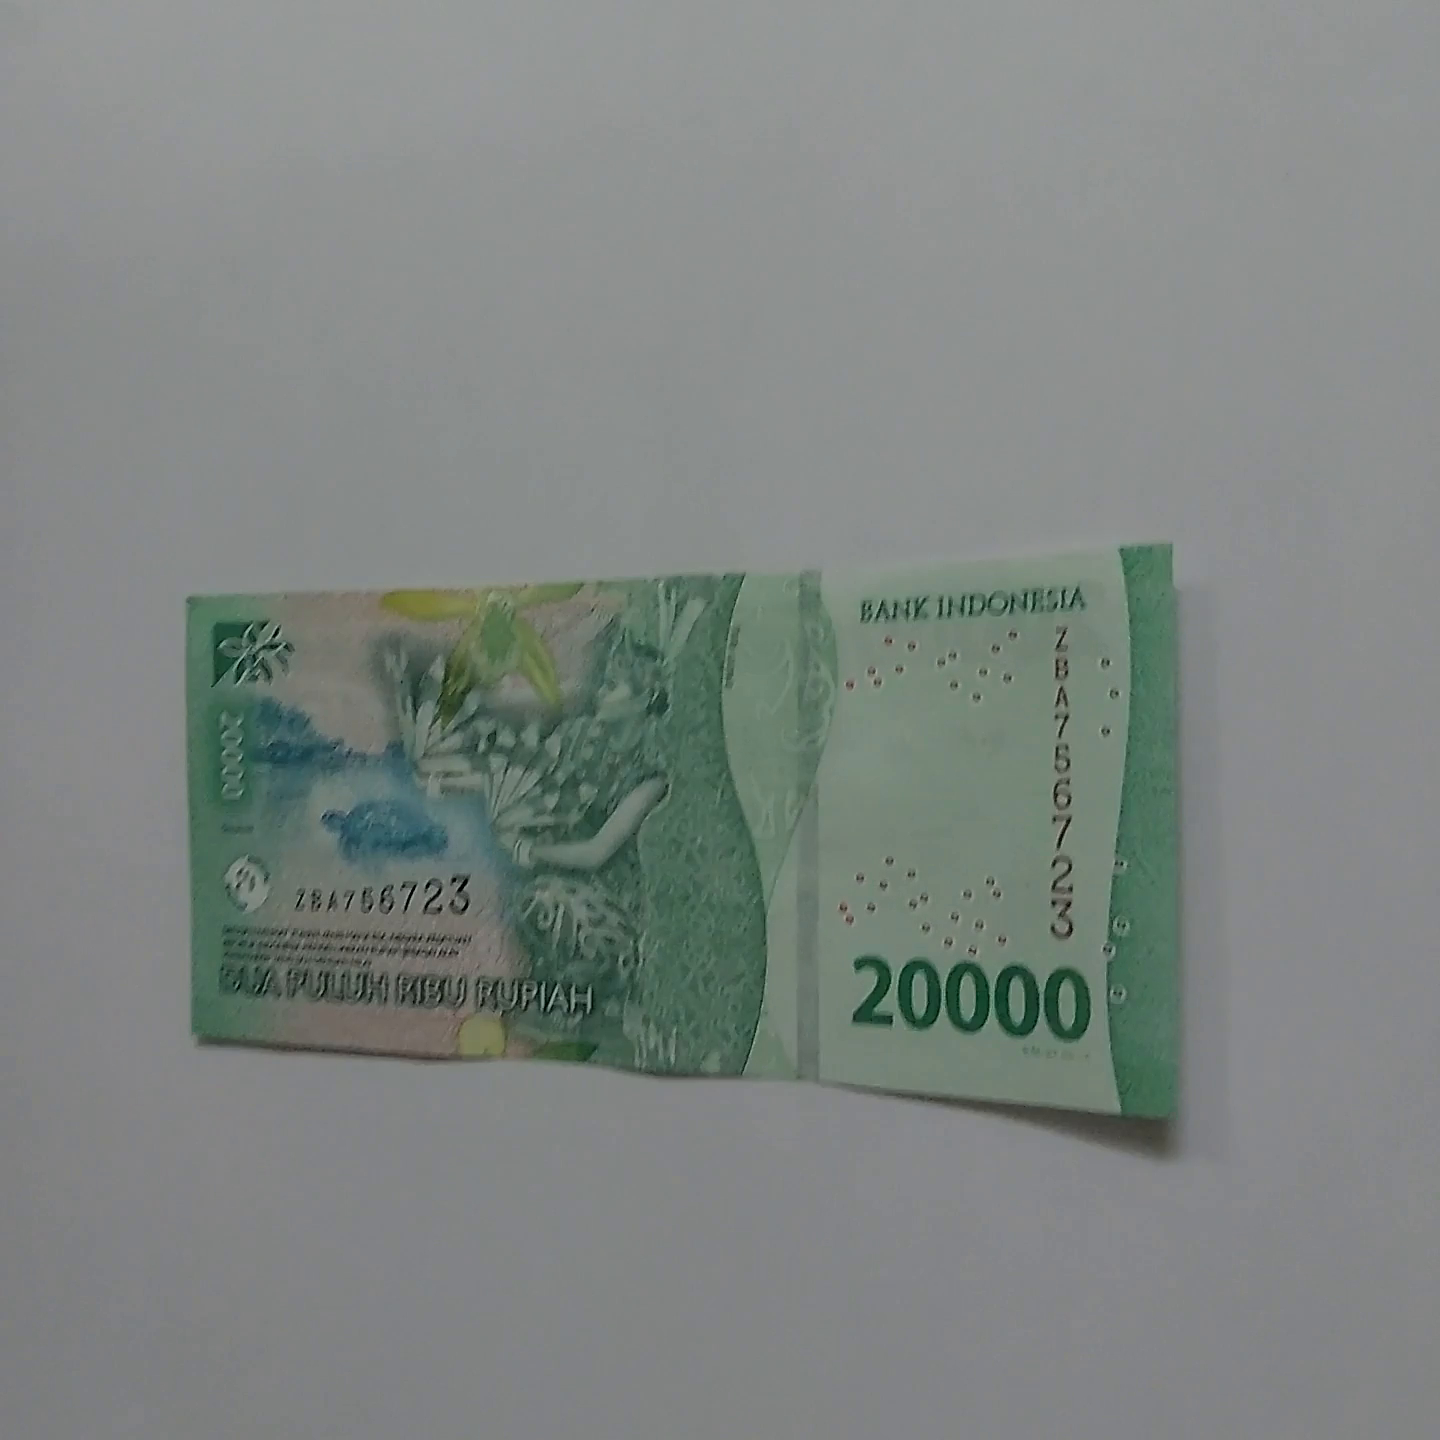20k: (166, 526, 1216, 1145)
